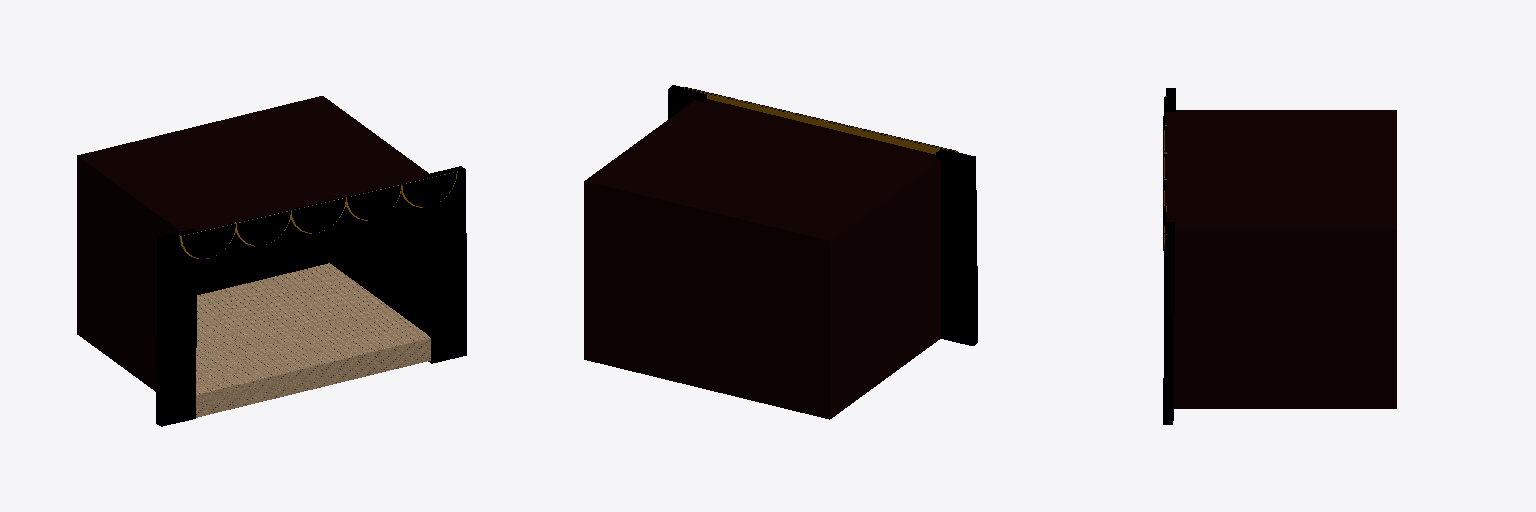
3 views of the same model, side by side, from view 1: azimuth 30°, elevation 25°; view 2: azimuth 150°, elevation 25°; view 3: azimuth 270°, elevation 25° (orthographic).
Visible parts, largest first — view 1: polySurface4; view 2: polySurface4; view 3: polySurface4.
Part boxes in pixels (bbox=[...]): polySurface4: bbox=[77, 96, 466, 426]; polySurface4: bbox=[584, 85, 977, 419]; polySurface4: bbox=[1163, 88, 1396, 424].
Size of the model in its own units: 165 by 97.56 by 109.
8 materials, 1 textured.